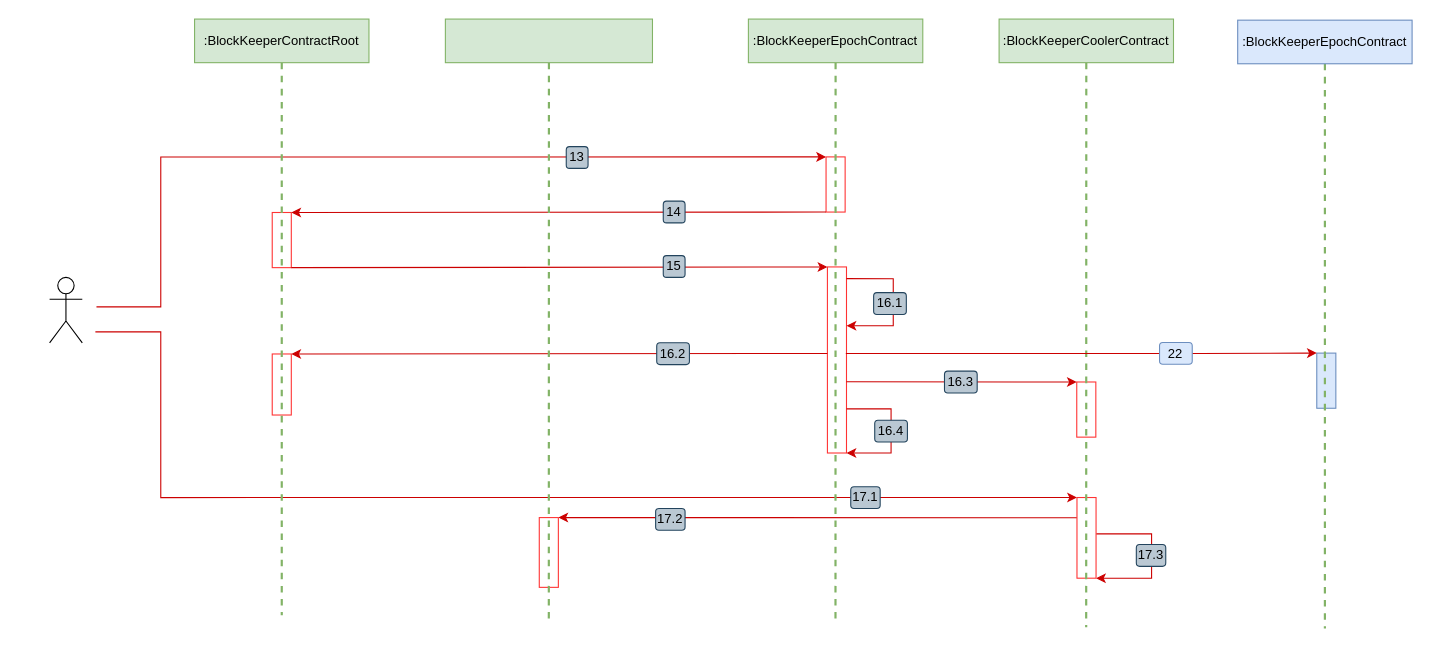
The diagram is 1431 pixels wide and 650 high, and some of its shapes have lost their labels. Here are the shapes that lost their labels. From the top down, the centre of each, then its label:
pixel 548 40: : AckiNacki BlockKeeper NodeWallet
pixel 65 309: Node Owner/ BK script
